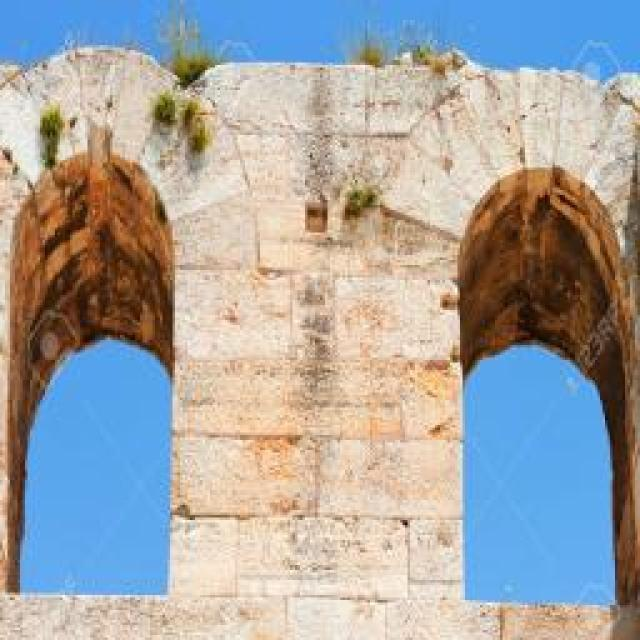Crack: (1, 34, 638, 638)
leak: (453, 163, 635, 611)
